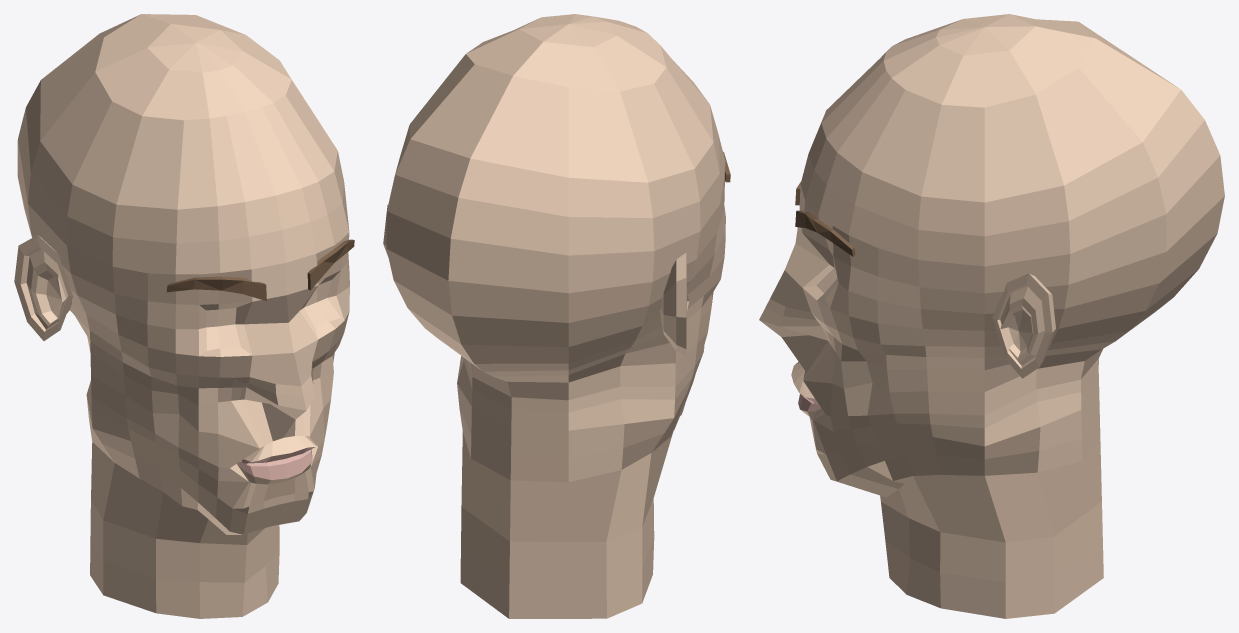
The model's file is head_tpl_v10.glb.
3 views of the same model, side by side, from view 1: azimuth 30°, elevation 25°; view 2: azimuth 150°, elevation 25°; view 3: azimuth 270°, elevation 25° (orthographic). The views are drawn at different scales.
Visible parts, largest first — view 1: Head_Main, Ears, Eyebrow_R, Eyebrow_L; view 2: Head_Main, Ears; view 3: Head_Main, Ears, Eyebrow_L.
Boxes of the visible parts, x1,y1,x2,y2 form: Head_Main: [17, 14, 349, 618]; Ears: [14, 235, 73, 340]; Eyebrow_R: [166, 276, 266, 301]; Eyebrow_L: [307, 239, 354, 290]; Head_Main: [386, 14, 725, 618]; Ears: [383, 204, 689, 356]; Head_Main: [759, 14, 1224, 618]; Ears: [992, 273, 1055, 378]; Eyebrow_L: [795, 210, 855, 256].
Size of the model in its own units: 0.1658 by 0.2886 by 0.2209.
